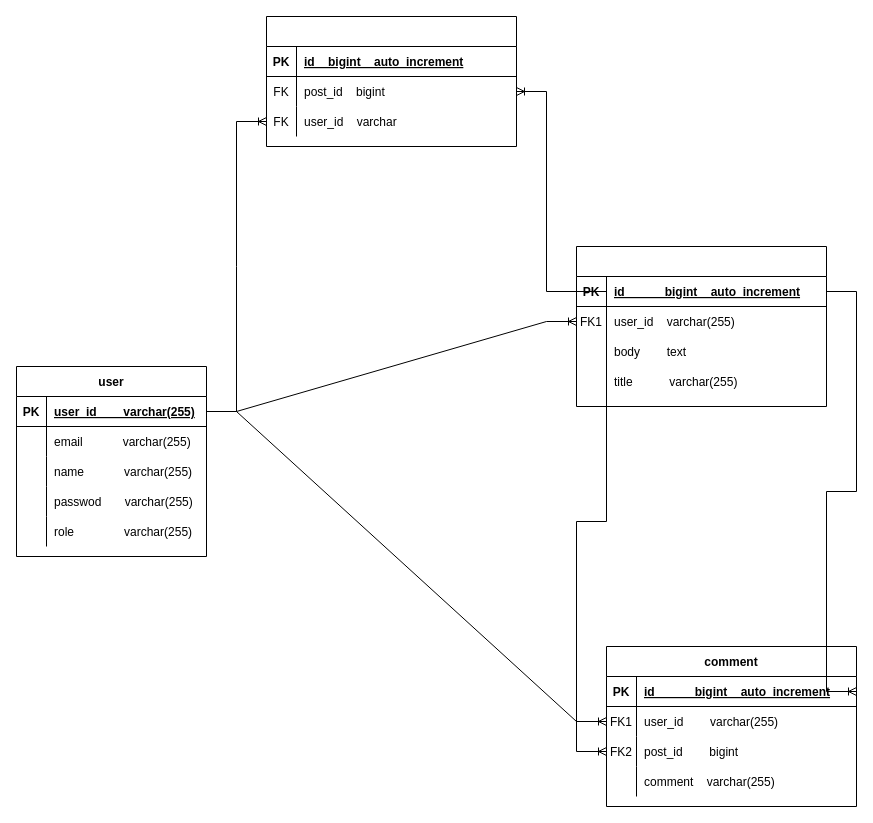
The diagram is 873 pixels wide and 823 high, and some of its shapes have lost their labels. The box of each missing label's shape, as (x1, y1, x2, y2) in pixels:
Like: (266, 16, 516, 146)
Post: (576, 246, 826, 406)
